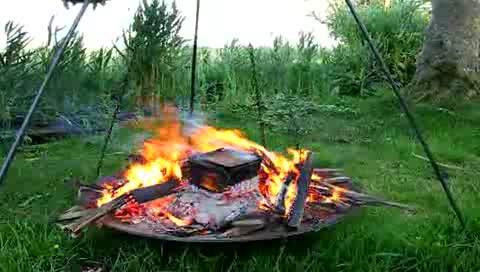fire: (118, 126, 331, 206)
